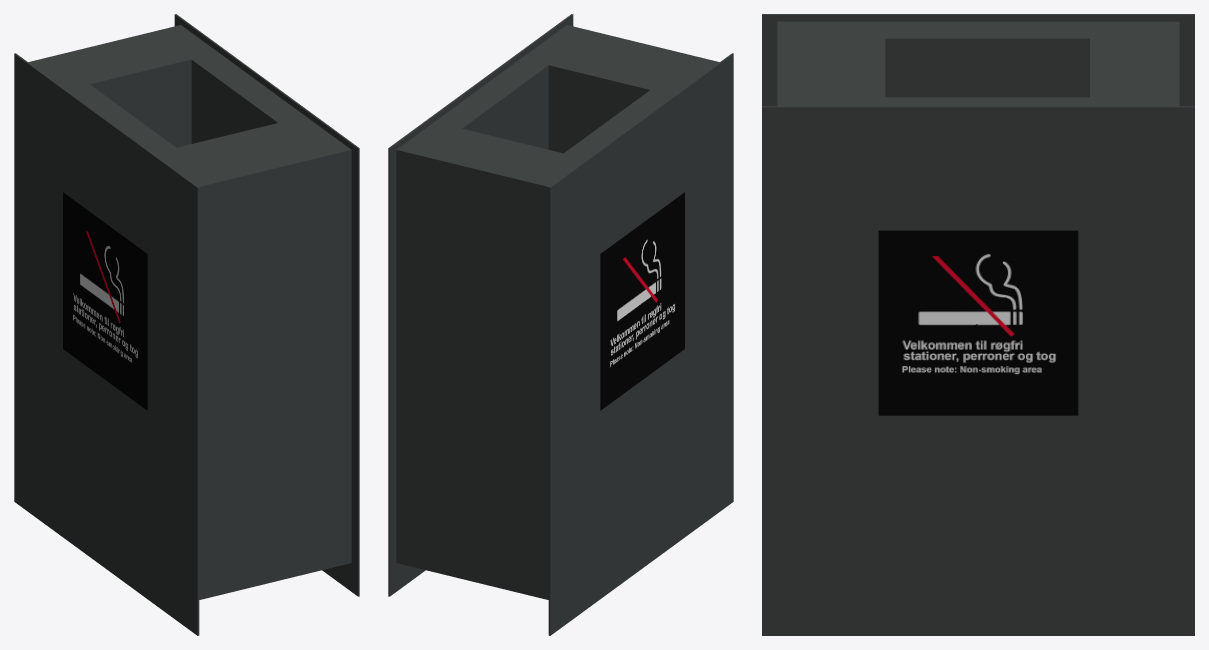
File: LilleSkraldeSpandblend.fbx
3 renders of one model, left to right at view 1: azimuth 30°, elevation 25°; view 2: azimuth 150°, elevation 25°; view 3: azimuth 270°, elevation 25°, orthographic. The views are drawn at different scales.
Parts seen in each view (by area): view 1: Cube, Cube.002, RøgfriStation.001, Cube.001; view 2: Cube, Cube.002, RøgfriStation.001, Cube.001; view 3: Cube.001, RøgfriStation, Cube, Cube.002.
Boxes of the visible parts, x1=… form: Cube: x1=28, y1=25, x2=351, y2=599; Cube.002: x1=14, y1=53, x2=199, y2=635; RøgfriStation.001: x1=63, y1=192, x2=147, y2=410; Cube.001: x1=174, y1=14, x2=359, y2=596; Cube: x1=396, y1=25, x2=719, y2=599; Cube.002: x1=548, y1=53, x2=733, y2=635; RøgfriStation.001: x1=600, y1=192, x2=684, y2=410; Cube.001: x1=388, y1=14, x2=573, y2=596; Cube.001: x1=762, y1=106, x2=1194, y2=635; RøgfriStation: x1=878, y1=230, x2=1078, y2=415; Cube: x1=777, y1=21, x2=1179, y2=106; Cube.002: x1=762, y1=14, x2=1194, y2=106.
Bounding box in the file's own units: 112 × 286 × 212.
Materials: 2 (1 with a texture image).
